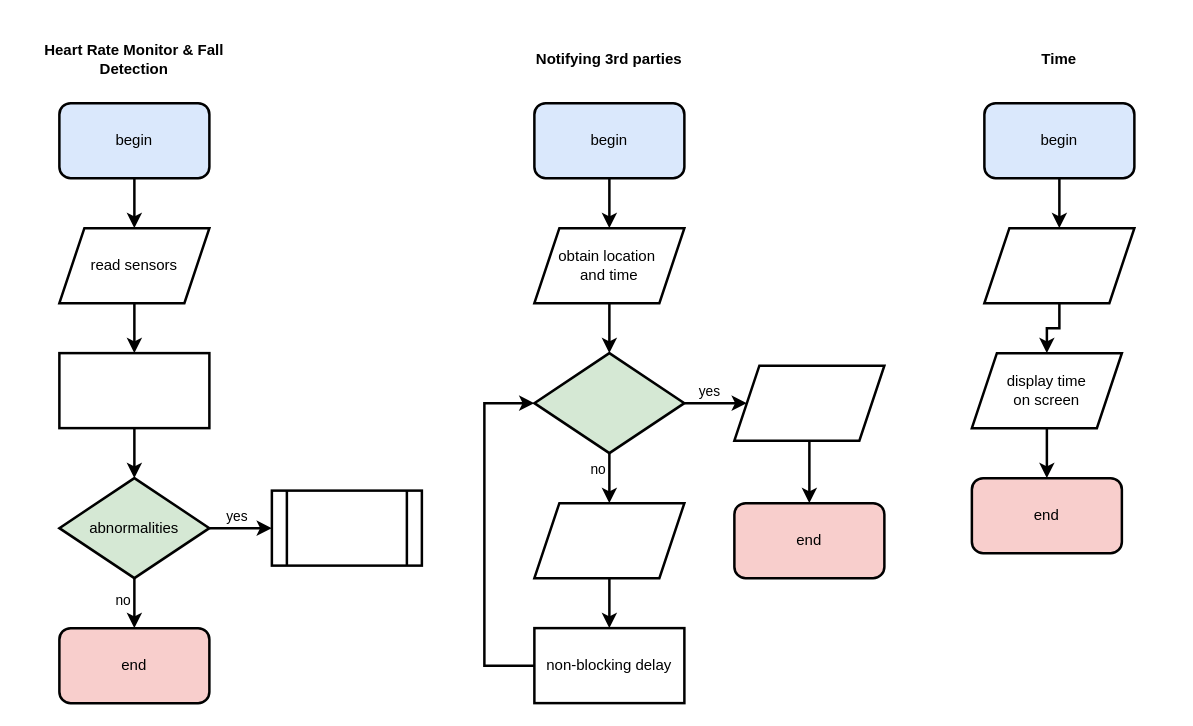
Image size: 1193x726. Some labels were removed from this diagram. The centre of each missing label's shape, as x and y in pixels:
"buffer message" belongs at point (608, 540).
"connection?" belongs at point (608, 402).
"notify a 3rd party that an event occurred" belongs at point (346, 527).
"obtain time" belongs at point (1058, 265).
"process sensor readings" belongs at point (134, 390).
"send message" belongs at point (808, 402).
